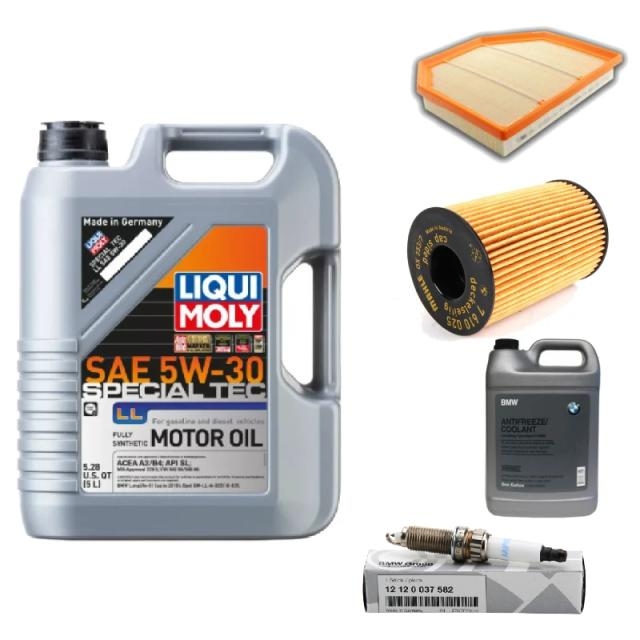air_filter: (377, 7, 630, 174)
motor_oil: (15, 116, 347, 544), (481, 334, 603, 518)
oil_filter: (376, 168, 616, 345)
